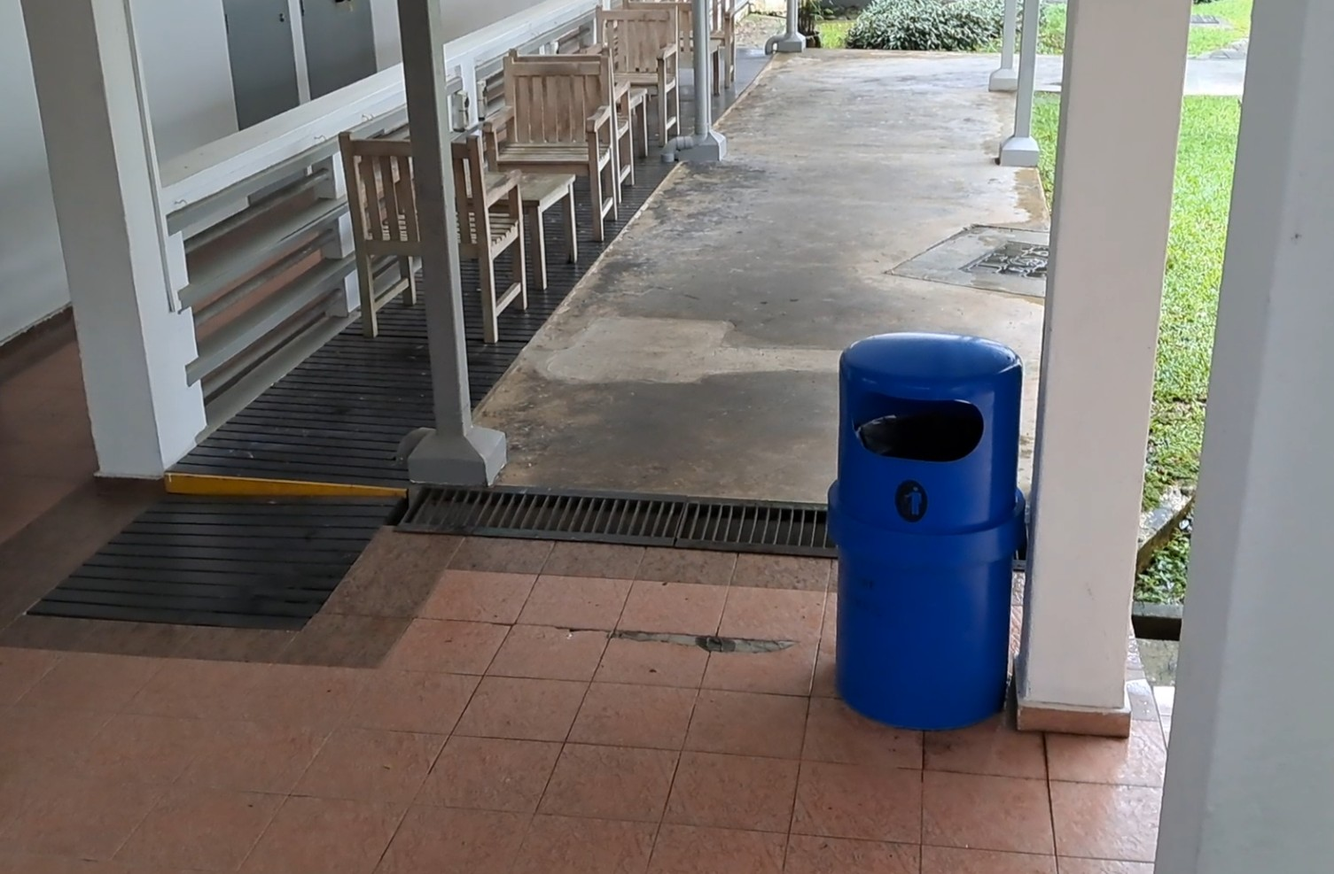bin_empty: (828, 331, 1026, 730)
